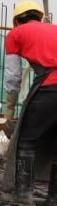boots: (0, 138, 26, 192), (0, 111, 8, 140)
gloves: (3, 90, 14, 136), (0, 46, 10, 72)
hard-hat: (0, 0, 18, 17)
